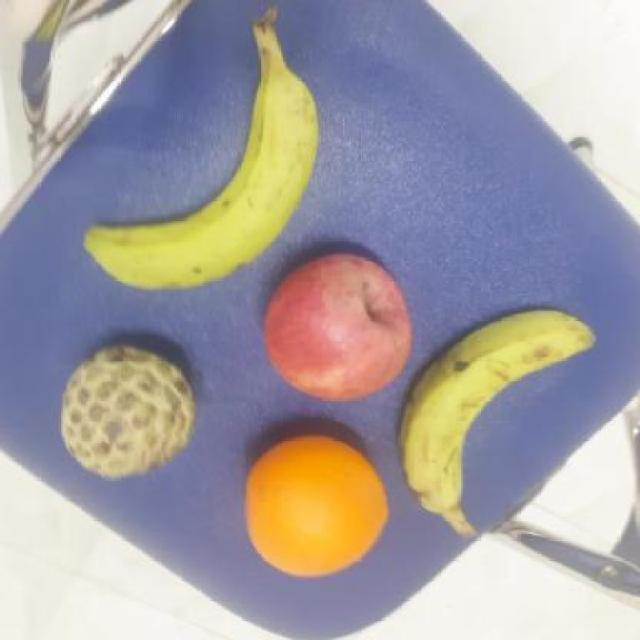apple: (254, 252, 415, 406)
banana: (75, 56, 337, 295), (401, 310, 607, 522)
oren: (237, 430, 389, 581)
sugar apple: (57, 337, 205, 478)
